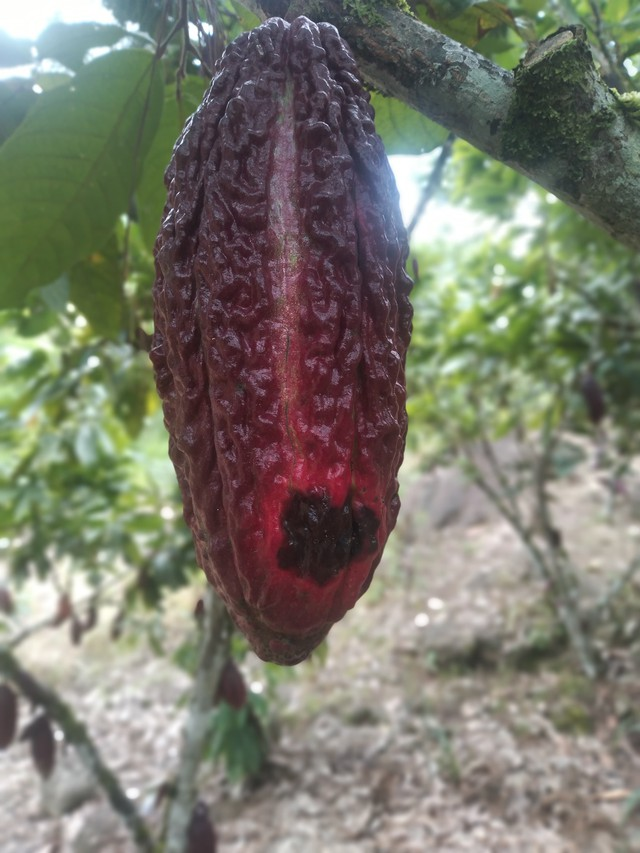phytophthora palmivora: (144, 12, 417, 671)
